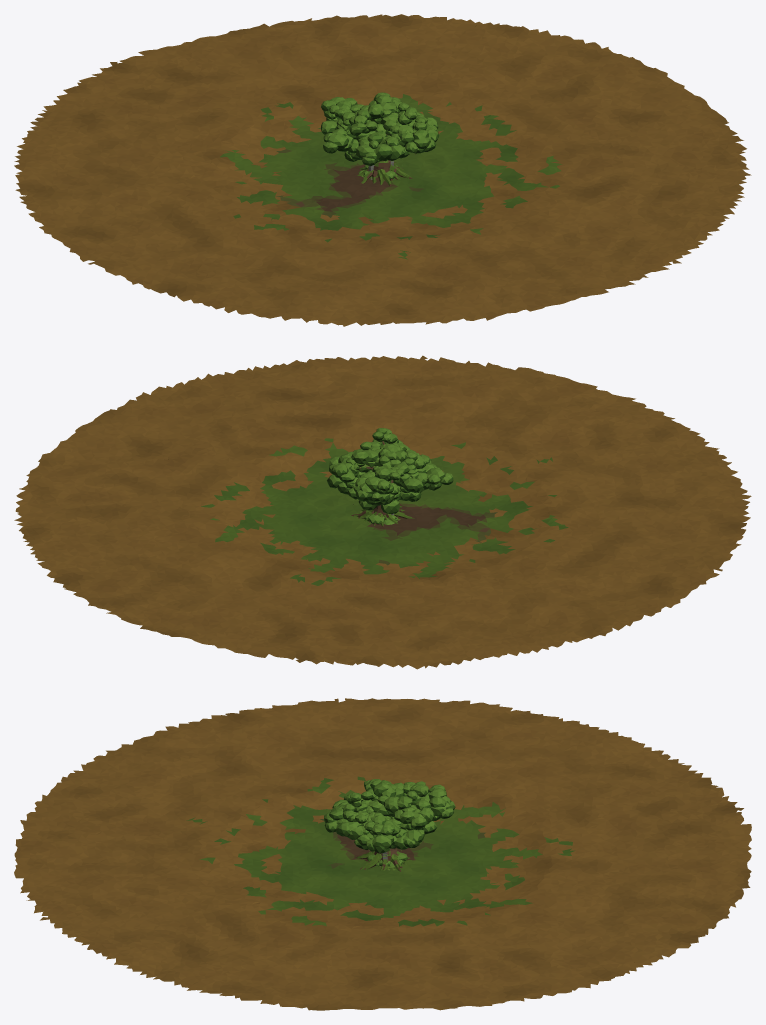
The model's file is forest_lowpoly.glb.
3 renders of one model, top to bottom at view 1: azimuth 30°, elevation 25°; view 2: azimuth 150°, elevation 25°; view 3: azimuth 270°, elevation 25°, orthographic.
Visible parts, largest first — view 1: Ground, Oak3, Oak1, Oak0; view 2: Ground, Oak3, Oak1, Oak0, Oak2; view 3: Ground, Oak3, Oak1, Oak0.
Boxes of the visible parts, box(x1,y1,x2,y2) form: Ground: box(14, 14, 751, 326); Oak3: box(321, 92, 439, 186); Oak1: box(339, 98, 438, 184); Oak0: box(321, 114, 417, 181); Ground: box(14, 355, 751, 669); Oak3: box(329, 428, 453, 524); Oak1: box(327, 439, 427, 525); Oak0: box(353, 442, 440, 526); Oak2: box(337, 470, 421, 521); Ground: box(14, 698, 751, 1010); Oak3: box(324, 779, 451, 870); Oak1: box(331, 782, 455, 871); Oak0: box(332, 784, 440, 870).
Size of the model in its own units: 190 by 22.96 by 190.
